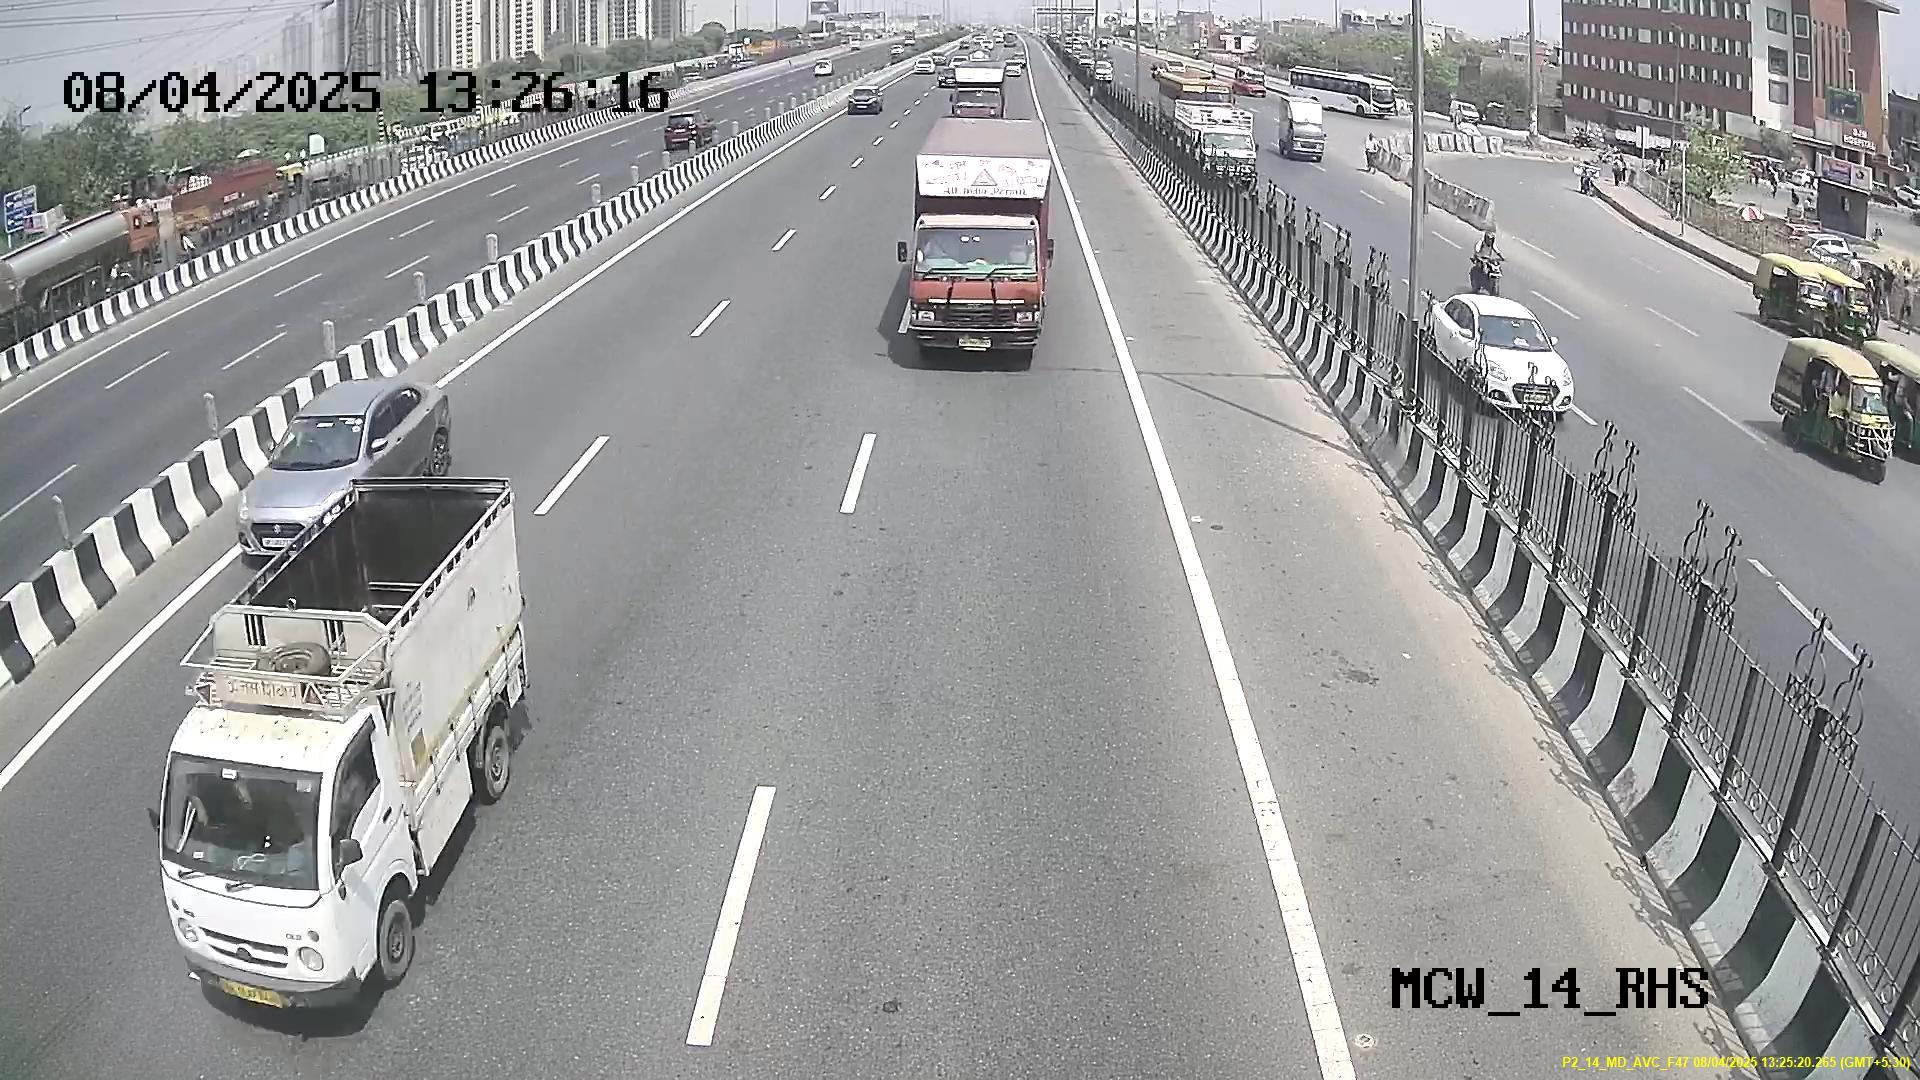car: (156, 712, 382, 1013)
lcv: (903, 214, 1048, 364)
